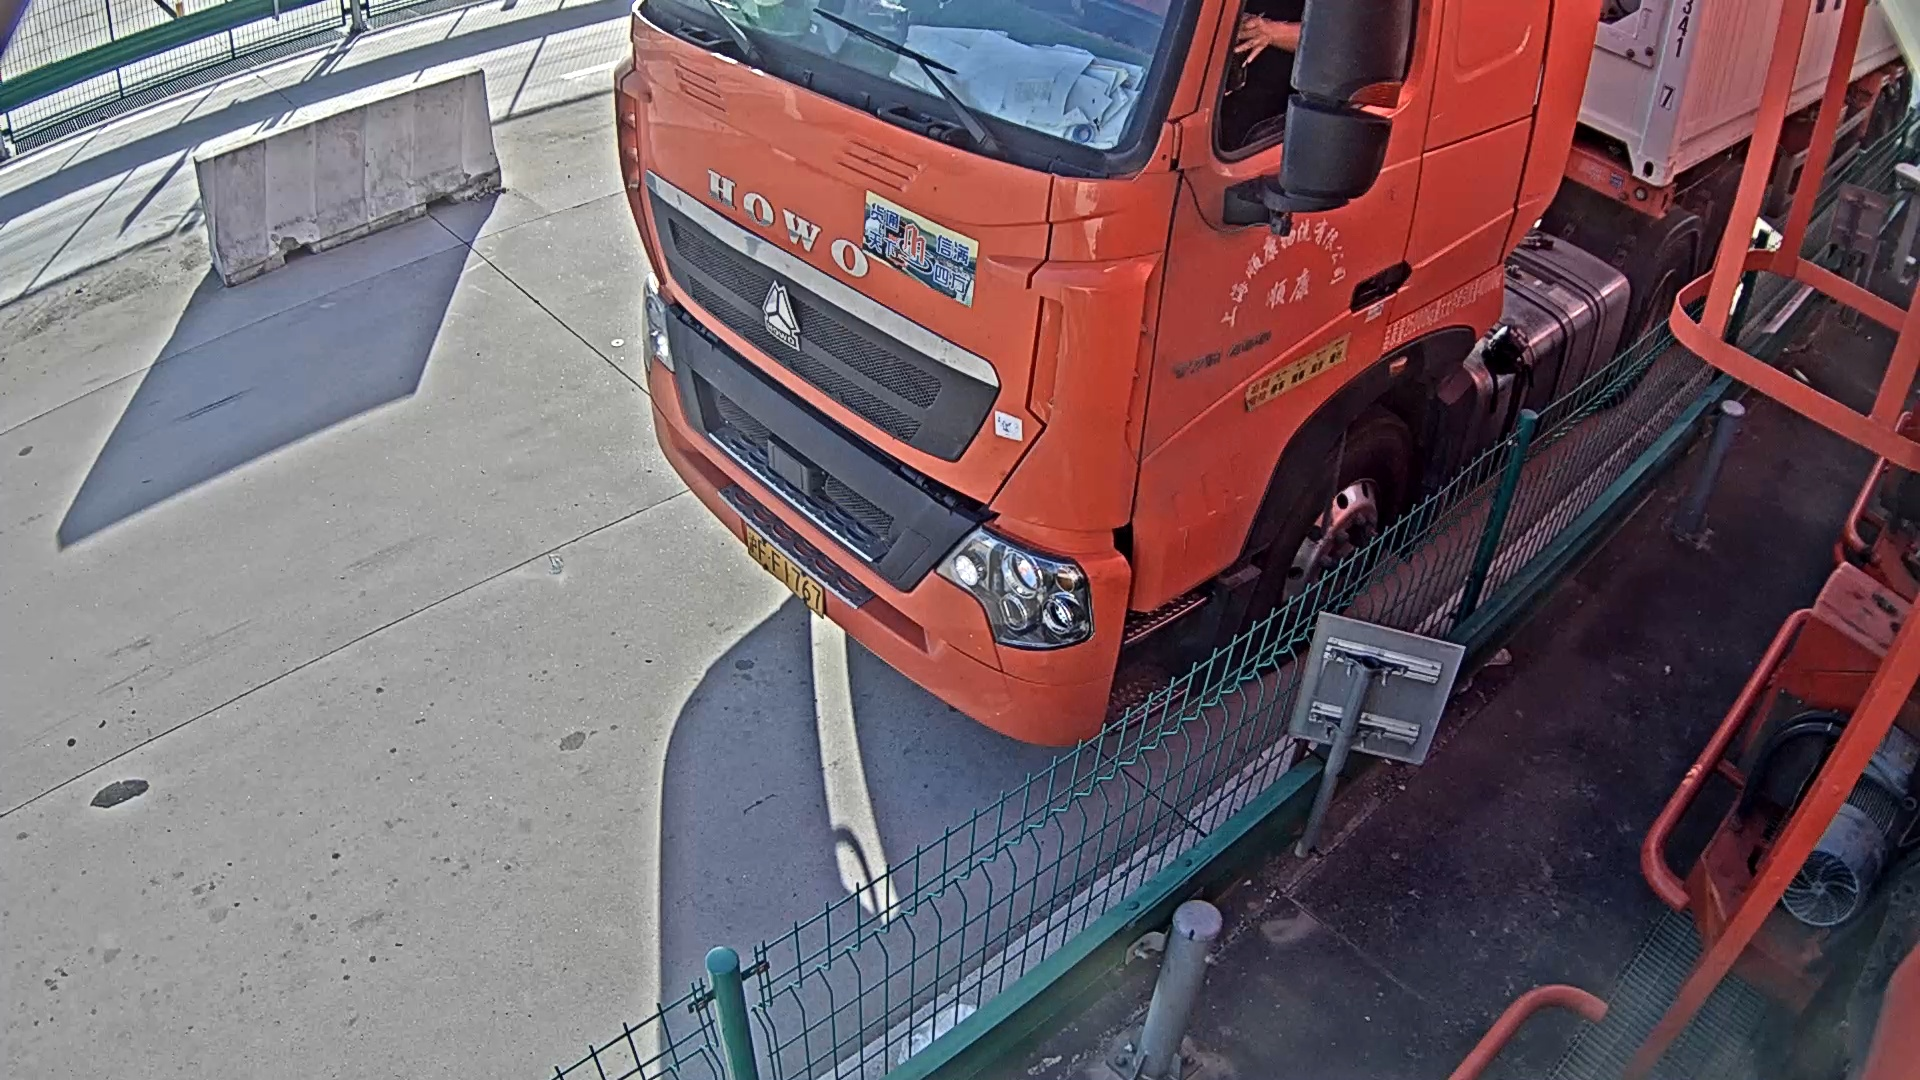head: (610, 1, 1591, 753)
plate: (741, 518, 825, 623)
